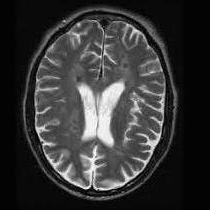Normal_Brain: (1, 1, 210, 210)
